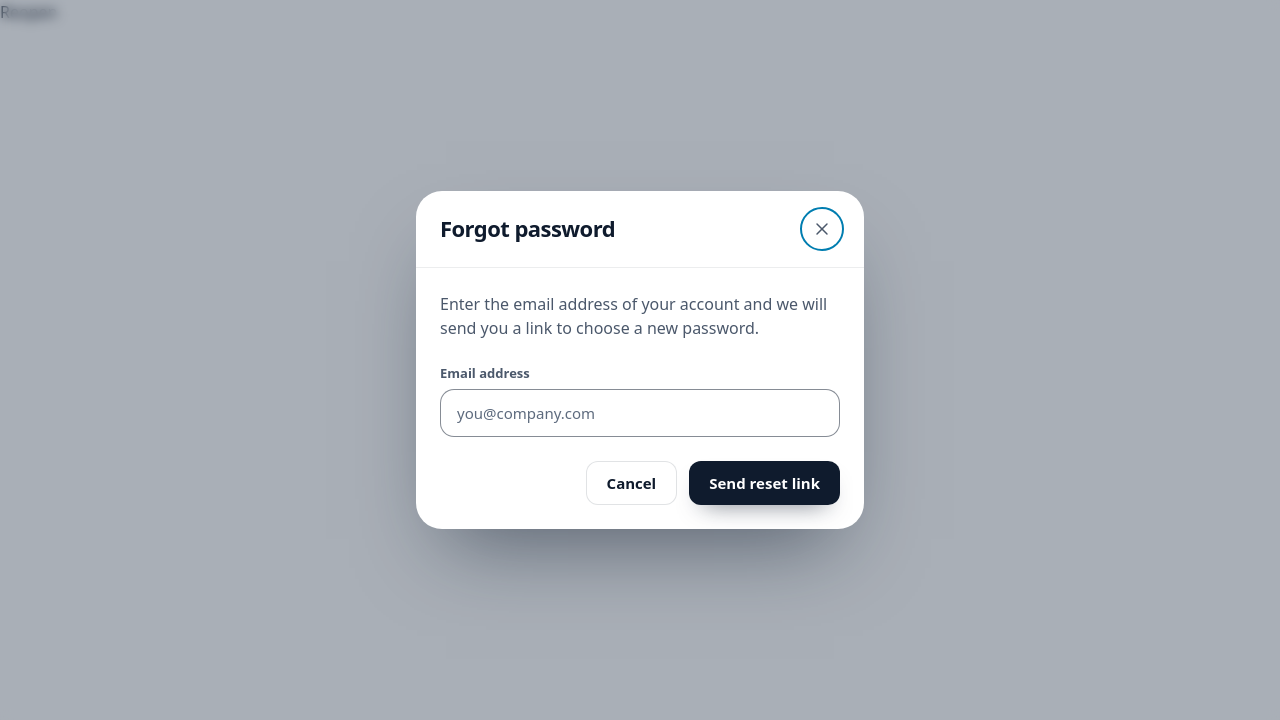
Scenario: ForgotPasswordModal › sends the address and confirms with a conditional that names it
Type "ada@example.com" into the field labelled "Email address" at (640, 413), box x1=440 y1=389 x2=840 y2=437
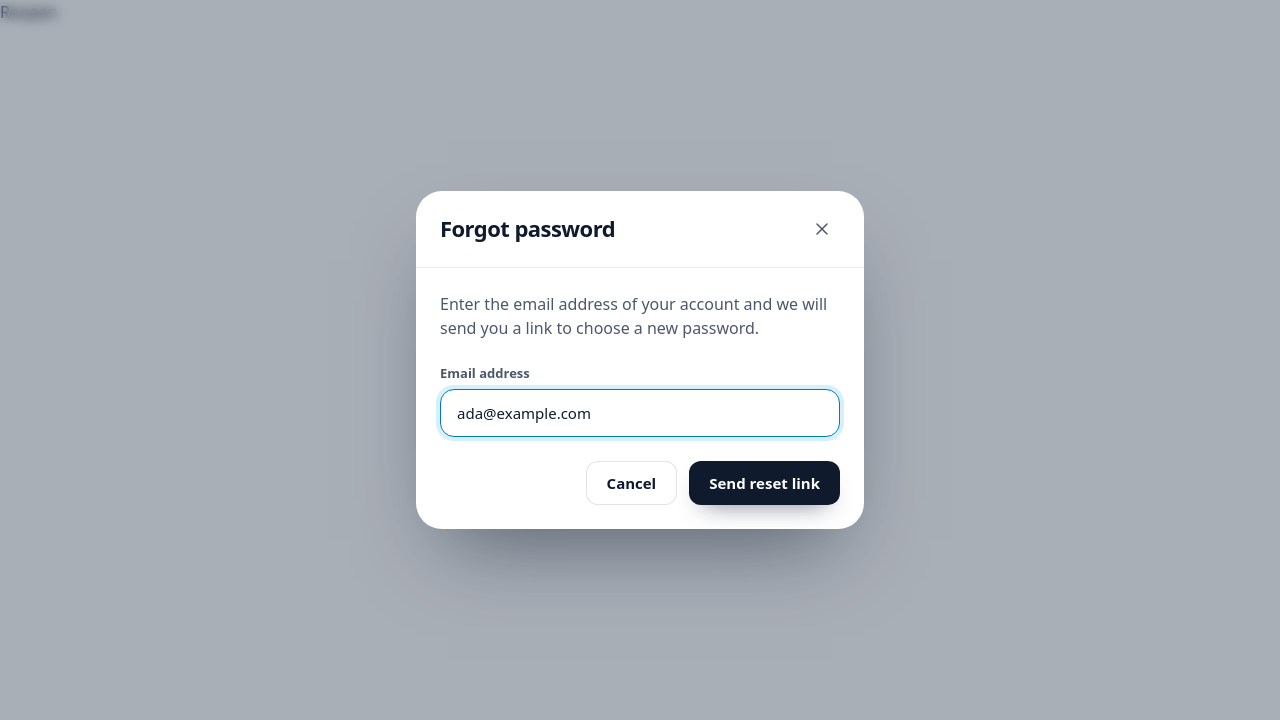
Click the button "Send reset link" at (765, 483), box x1=689 y1=461 x2=840 y2=505
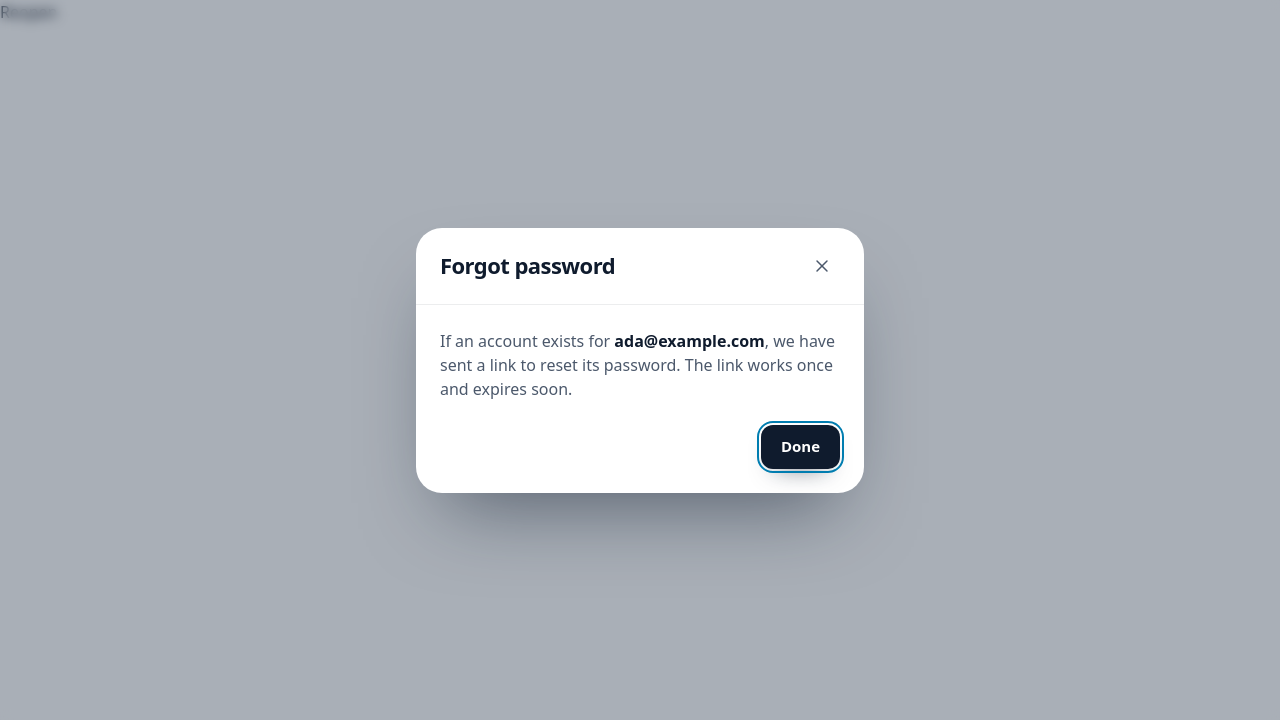
Check: the message shows "If an account exists for ada@example.com, we have sent a link to reset its password.", box x1=440 y1=328 x2=840 y2=400
Check: the text labelled "email address" is gone
